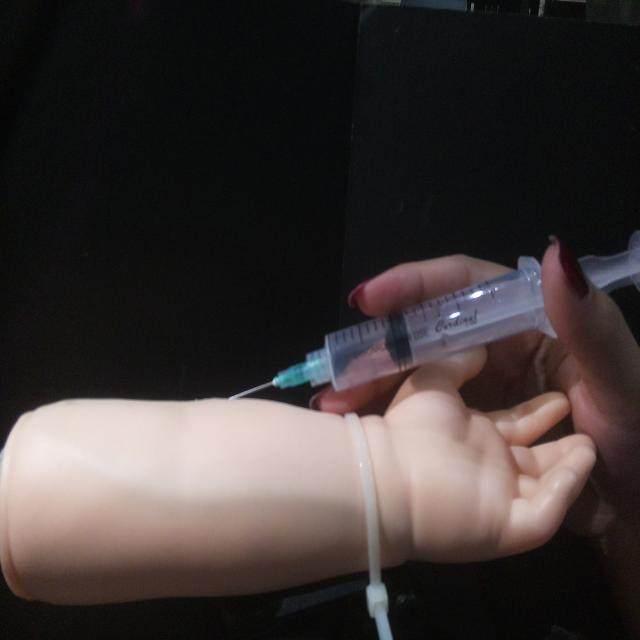19deg: (226, 228, 638, 403)
